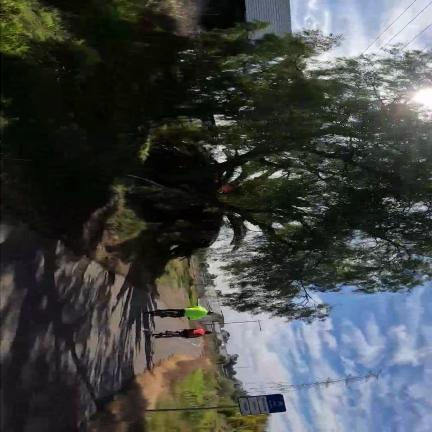Bike_Lane: (0, 223, 203, 432)
